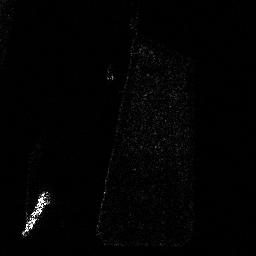ship: (23, 191, 51, 238)
